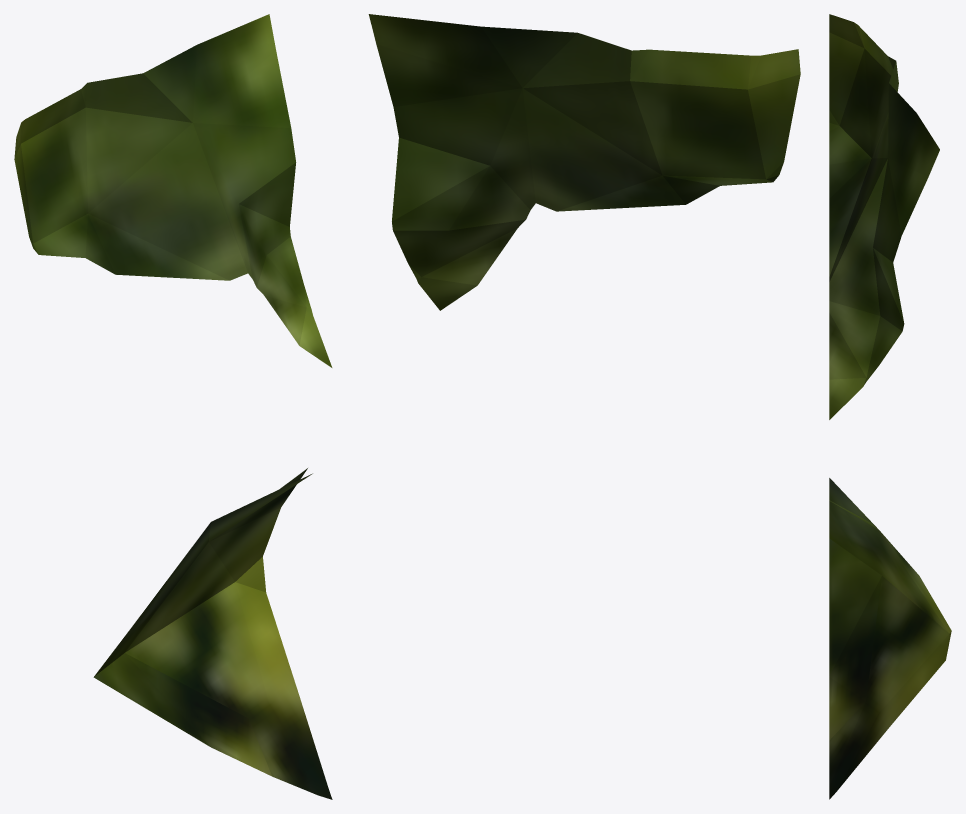
3 renders of one model, left to right at view 1: azimuth 30°, elevation 25°; view 2: azimuth 150°, elevation 25°; view 3: azimuth 270°, elevation 25°, orthographic. The views are drawn at different scales.
Bounding box in the file's own units: 0.3176 × 0.7056 × 0.1204.
1 material, 1 textured.
